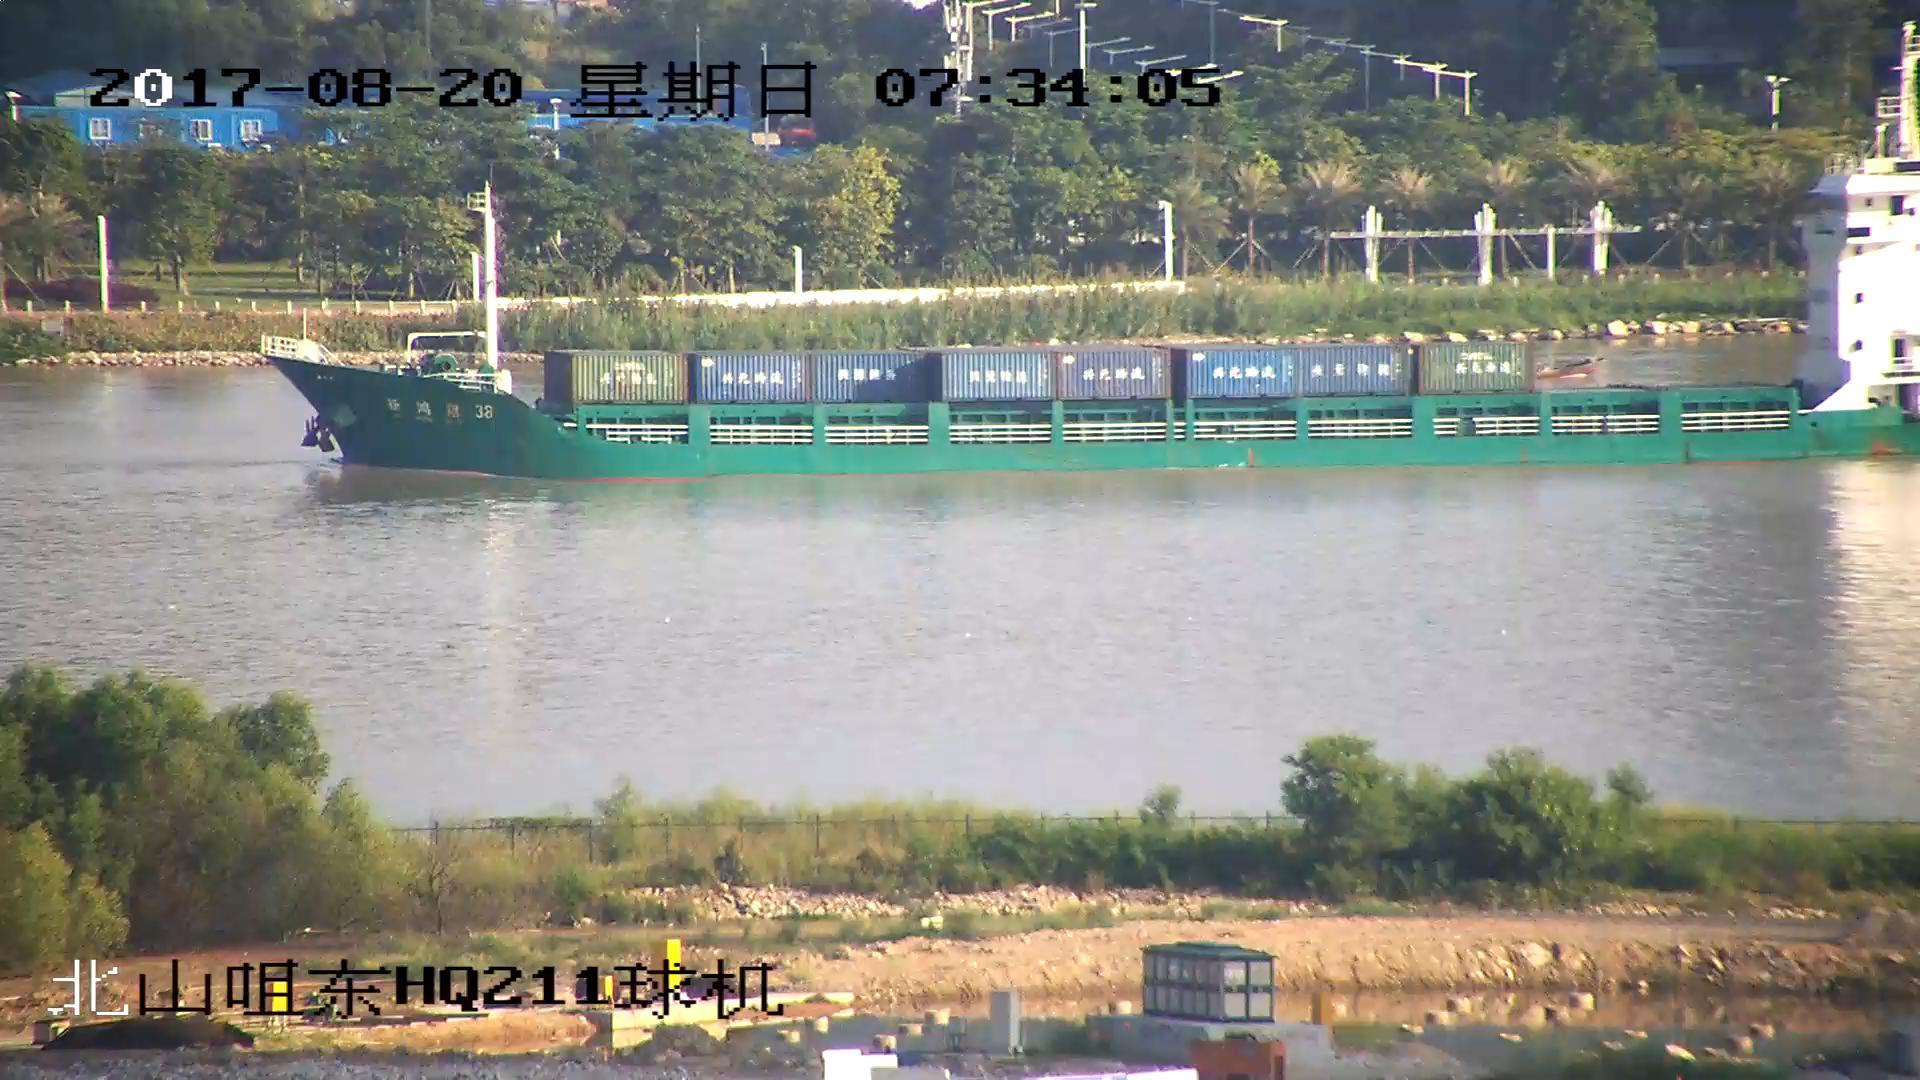Ship: (261, 109, 1920, 477)
